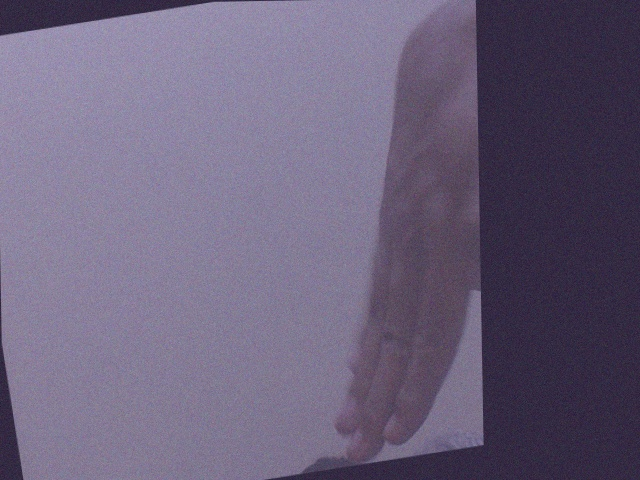hand: (332, 2, 483, 464)
